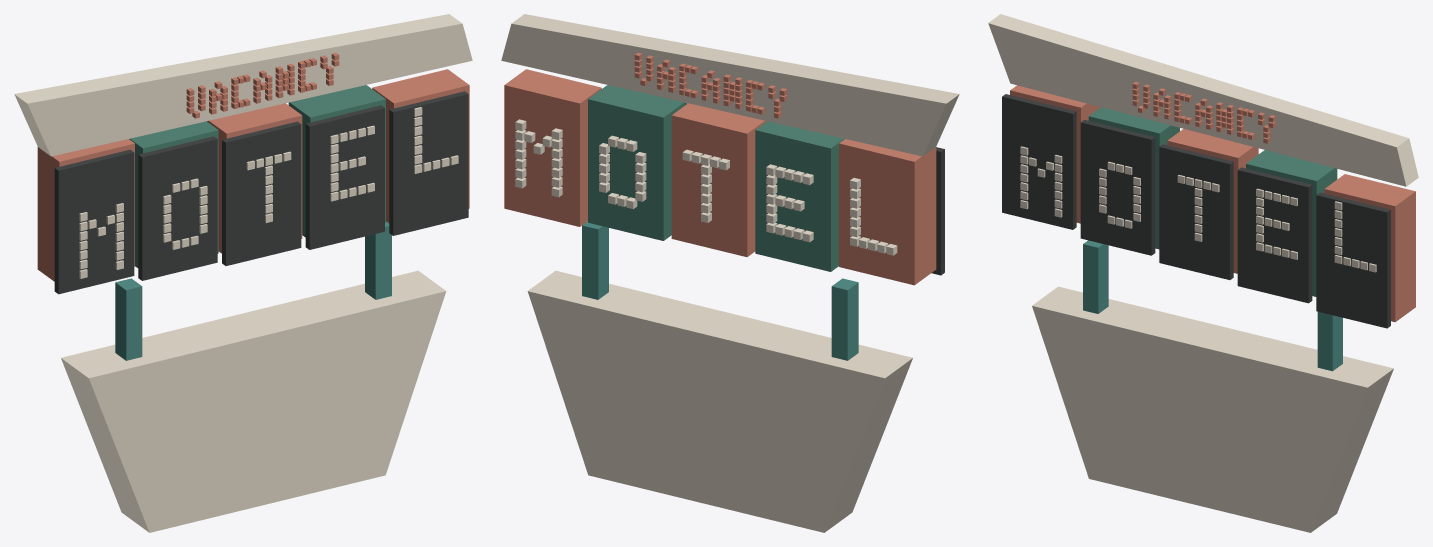
Rendered from motel_sign.glb.
The picture shows the model from 3 angles, left to right: view 1: azimuth 30°, elevation 25°; view 2: azimuth 150°, elevation 25°; view 3: azimuth 330°, elevation 25°; orthographic projection. The views are drawn at different scales.
Parts seen in each view (by area): view 1: tapered_pedestal, vacancy_header, letter_box_shadow_1, letter_box_shadow_3, letter_box_shadow_5, letter_box_shadow_4, letter_box_shadow_2, letter_box_5, letter_box_1, letter_box_2, letter_box_3, support_right (+2 smaller); view 2: tapered_pedestal, vacancy_header, letter_box_5, letter_box_3, letter_box_1, letter_box_2, letter_box_4, support_right, support_left, letter_box_shadow_5; view 3: tapered_pedestal, vacancy_header, letter_box_shadow_1, letter_box_shadow_3, letter_box_shadow_4, letter_box_shadow_2, letter_box_shadow_5, letter_box_1, letter_box_2, letter_box_3, letter_box_4, support_right (+2 smaller).
Part boxes in pixels (box(x1,y1,x2,y2)): tapered_pedestal: box(61, 270, 446, 532); vacancy_header: box(14, 14, 472, 156); letter_box_shadow_1: box(389, 91, 468, 235); letter_box_shadow_3: box(222, 121, 301, 265); letter_box_shadow_5: box(54, 149, 134, 294); letter_box_shadow_4: box(138, 136, 217, 280); letter_box_shadow_2: box(305, 105, 384, 249); letter_box_5: box(37, 139, 134, 281); letter_box_1: box(372, 69, 469, 223); letter_box_2: box(288, 85, 385, 237); letter_box_3: box(207, 103, 302, 253); support_right: box(115, 278, 142, 360); tapered_pedestal: box(527, 270, 912, 532); vacancy_header: box(501, 14, 959, 156); letter_box_5: box(839, 139, 936, 285); letter_box_3: box(671, 103, 766, 256); letter_box_1: box(504, 69, 601, 226); letter_box_2: box(588, 85, 685, 240); letter_box_4: box(755, 121, 844, 271); support_right: box(831, 278, 858, 360); support_left: box(582, 221, 608, 299); letter_box_shadow_5: box(931, 147, 944, 275); tapered_pedestal: box(1032, 286, 1393, 532); vacancy_header: box(988, 14, 1418, 186); letter_box_shadow_1: box(1316, 192, 1390, 328); letter_box_shadow_3: box(1159, 144, 1233, 279); letter_box_shadow_4: box(1080, 120, 1155, 255); letter_box_shadow_2: box(1237, 167, 1312, 303); letter_box_shadow_5: box(1002, 94, 1076, 229); letter_box_1: box(1324, 174, 1415, 322); letter_box_2: box(1246, 150, 1337, 296); letter_box_3: box(1167, 128, 1258, 273); letter_box_4: box(1088, 107, 1179, 249); support_right: box(1083, 240, 1108, 313).
Bounding box in the file's own units: 6.6 × 6.4 × 0.82.
